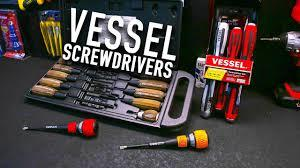screwdriver: (118, 127, 209, 150), (21, 116, 100, 138)
